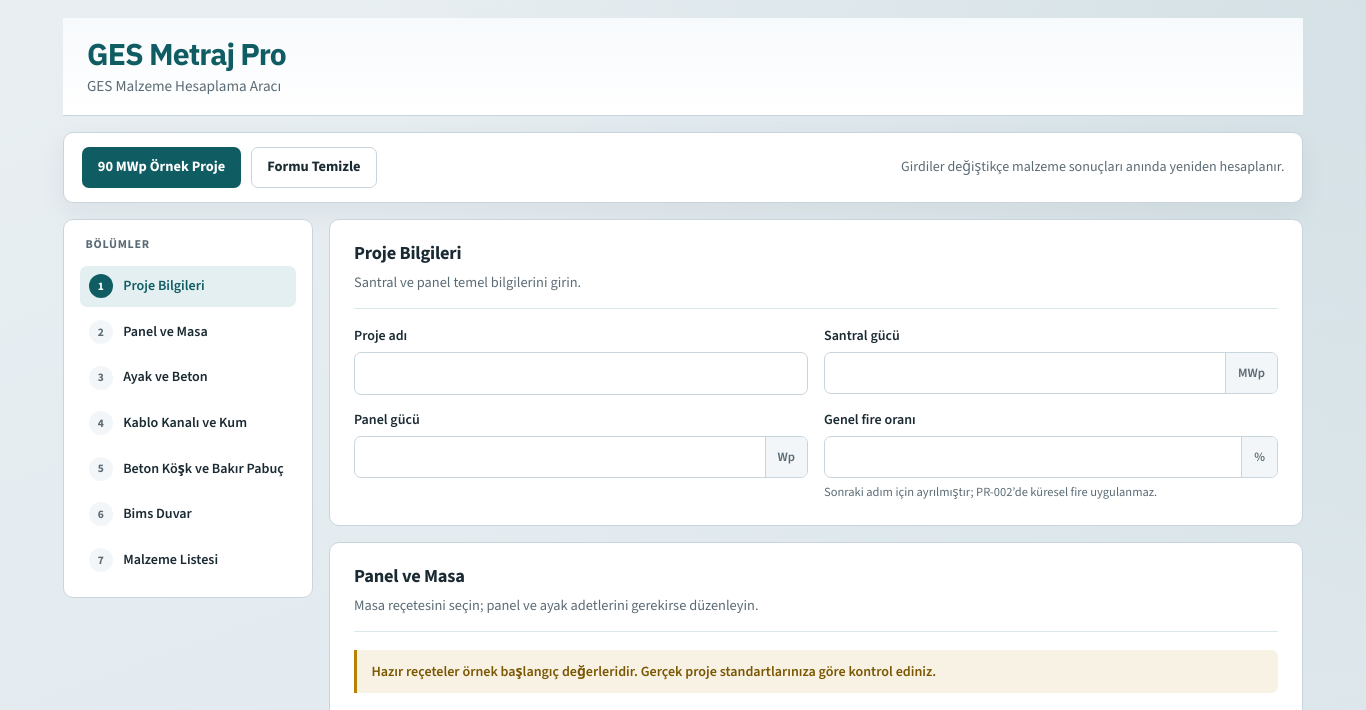
Test: GES Metraj Pro — PR-002 / PR-003 calculations › shows live panel count for the 90 MWp example
This screenshot has width=1366, height=710.
Click the button "90 MWp Örnek Proje": (162, 168) 82,147 -> 242,188
(page scrolled)
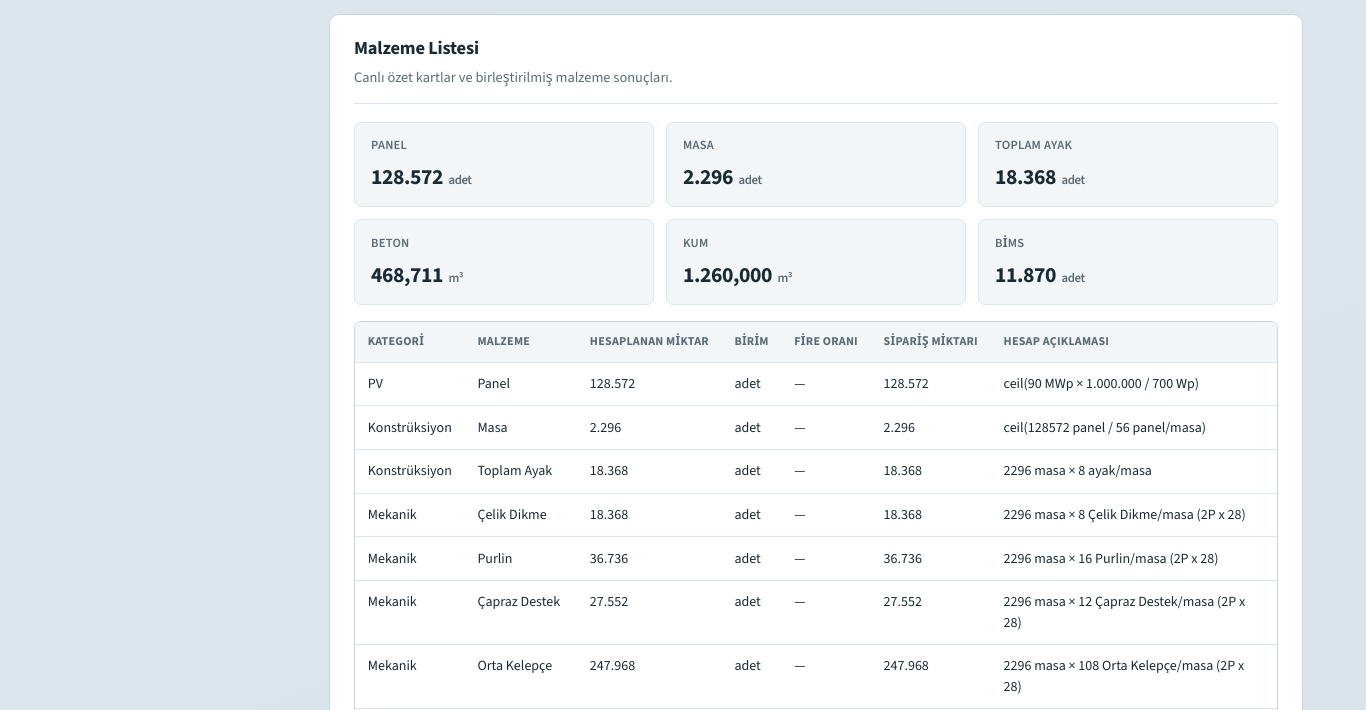
Check: the text "128.572" is shown, box 371,161 -> 443,193
Check: the text "ceil(90 MWp × 1.000.000 / 700 Wp)" is shown, box 991,362 -> 1277,406
